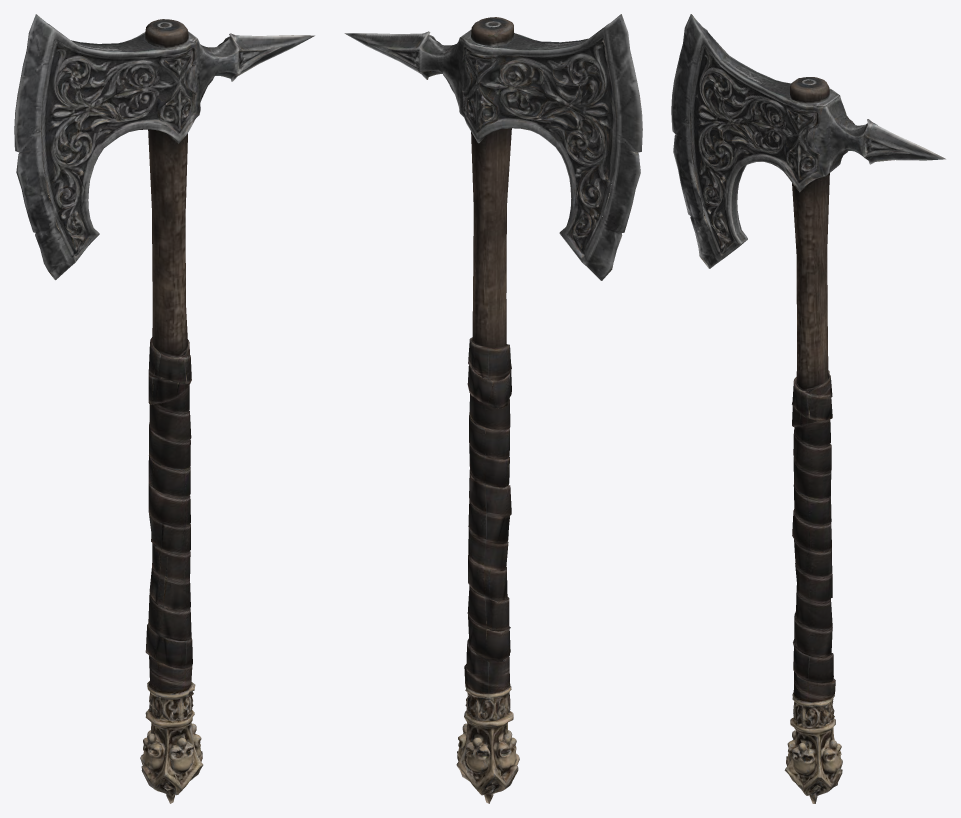
Rendered from axe-bearded.glb.
3 renders of one model, left to right at view 1: azimuth 30°, elevation 25°; view 2: azimuth 150°, elevation 25°; view 3: azimuth 330°, elevation 25°, orthographic. The views are drawn at different scales.
Size of the model in its own units: 0.3628 by 0.9502 by 0.061.
Materials: 1 (1 with a texture image).
